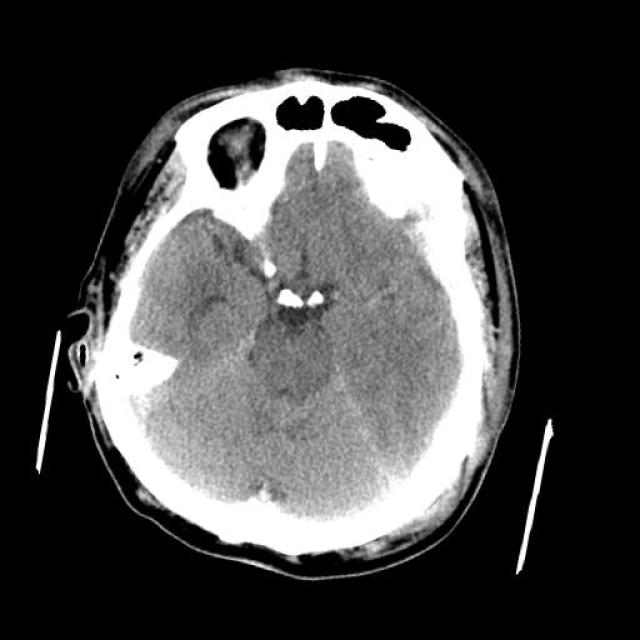Subdural: (346, 169, 506, 315)
